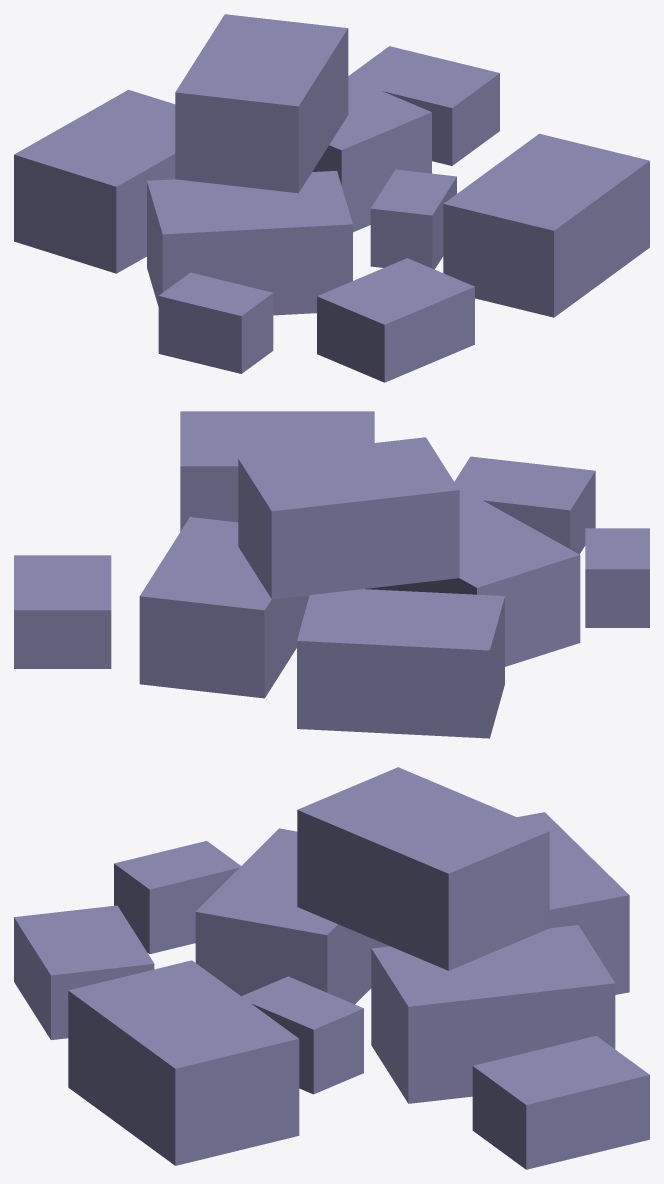
File: Rocks.fbx
3 views of the same model, one above another, from view 1: azimuth 30°, elevation 25°; view 2: azimuth 150°, elevation 25°; view 3: azimuth 270°, elevation 25° (orthographic). The views are drawn at different scales.
Parts seen in each view (by area): view 1: mergedBlocks; view 2: mergedBlocks; view 3: mergedBlocks.
Part boxes in pixels (bbox=[...]): mergedBlocks: bbox=[14, 14, 649, 382]; mergedBlocks: bbox=[14, 411, 649, 738]; mergedBlocks: bbox=[14, 767, 649, 1169].
Bounding box in the file's own units: 8.75 × 3 × 8.9.
